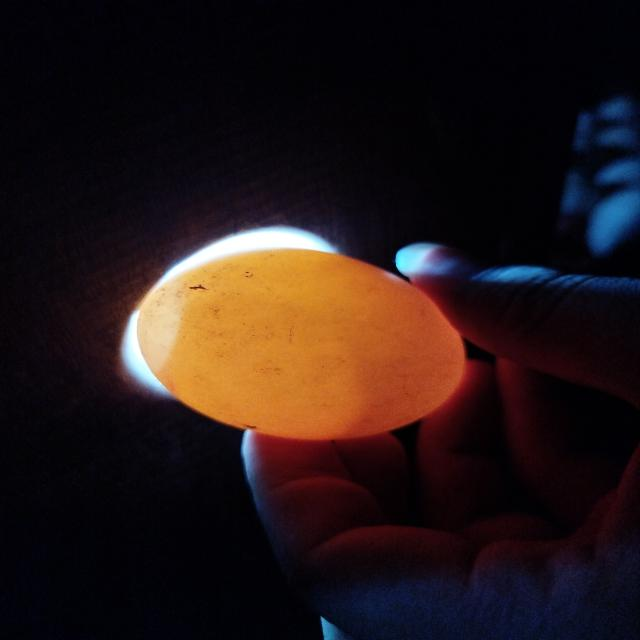Camara de Ar: (137, 274, 185, 376)
Gema Quebrada: (315, 355, 463, 440)
